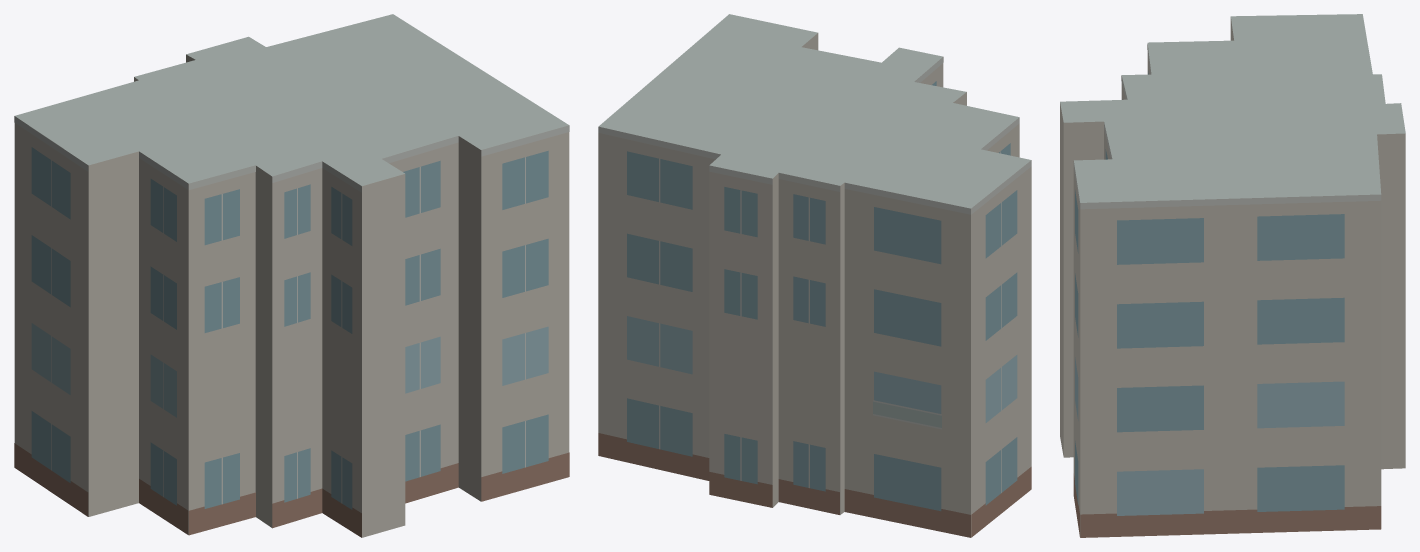
The model's file is survey-upis-32819581.glb.
3 views of the same model, side by side, from view 1: azimuth 30°, elevation 25°; view 2: azimuth 150°, elevation 25°; view 3: azimuth 270°, elevation 25° (orthographic). The views are drawn at different scales.
Parts seen in each view (by area): view 1: survey-upis-32819581.tmp; view 2: survey-upis-32819581.tmp; view 3: survey-upis-32819581.tmp.
Part boxes in pixels (x1,y1,x2,y2): survey-upis-32819581.tmp: (14,14,569,537); survey-upis-32819581.tmp: (598,14,1031,537); survey-upis-32819581.tmp: (1060,14,1405,537).
Bounding box in the file's own units: 15.68 × 12.95 × 12.12.
